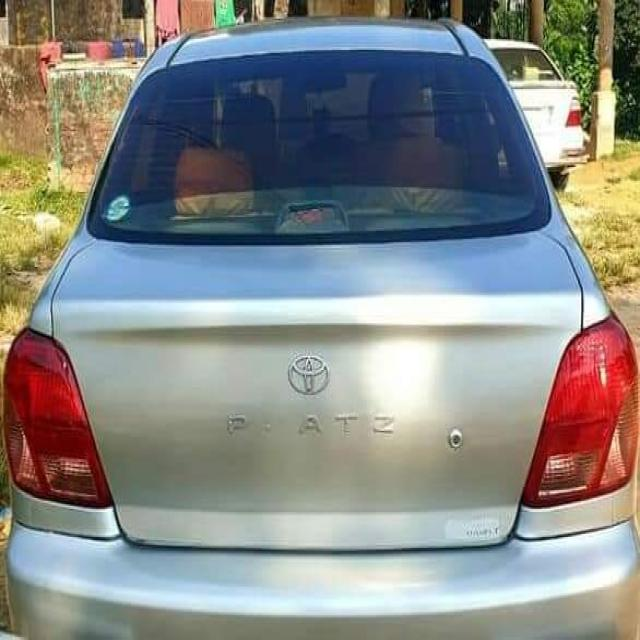silver: (0, 31, 640, 640)
white: (475, 15, 610, 170)
